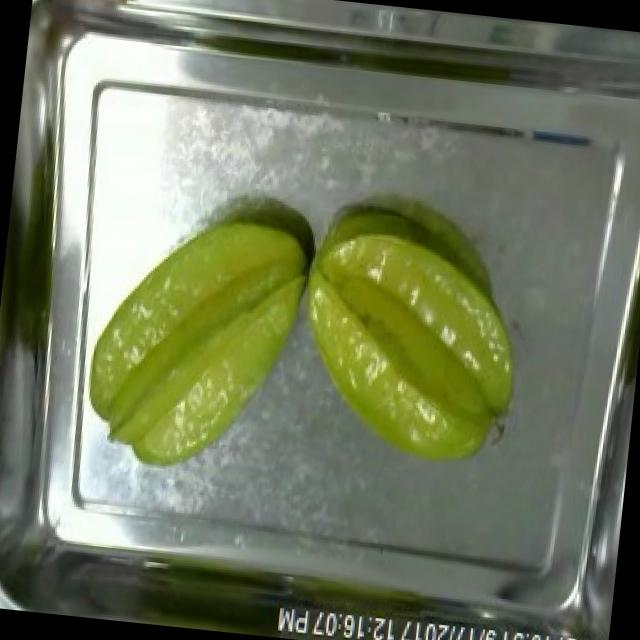fruit: (70, 197, 322, 489), (277, 211, 544, 483)
